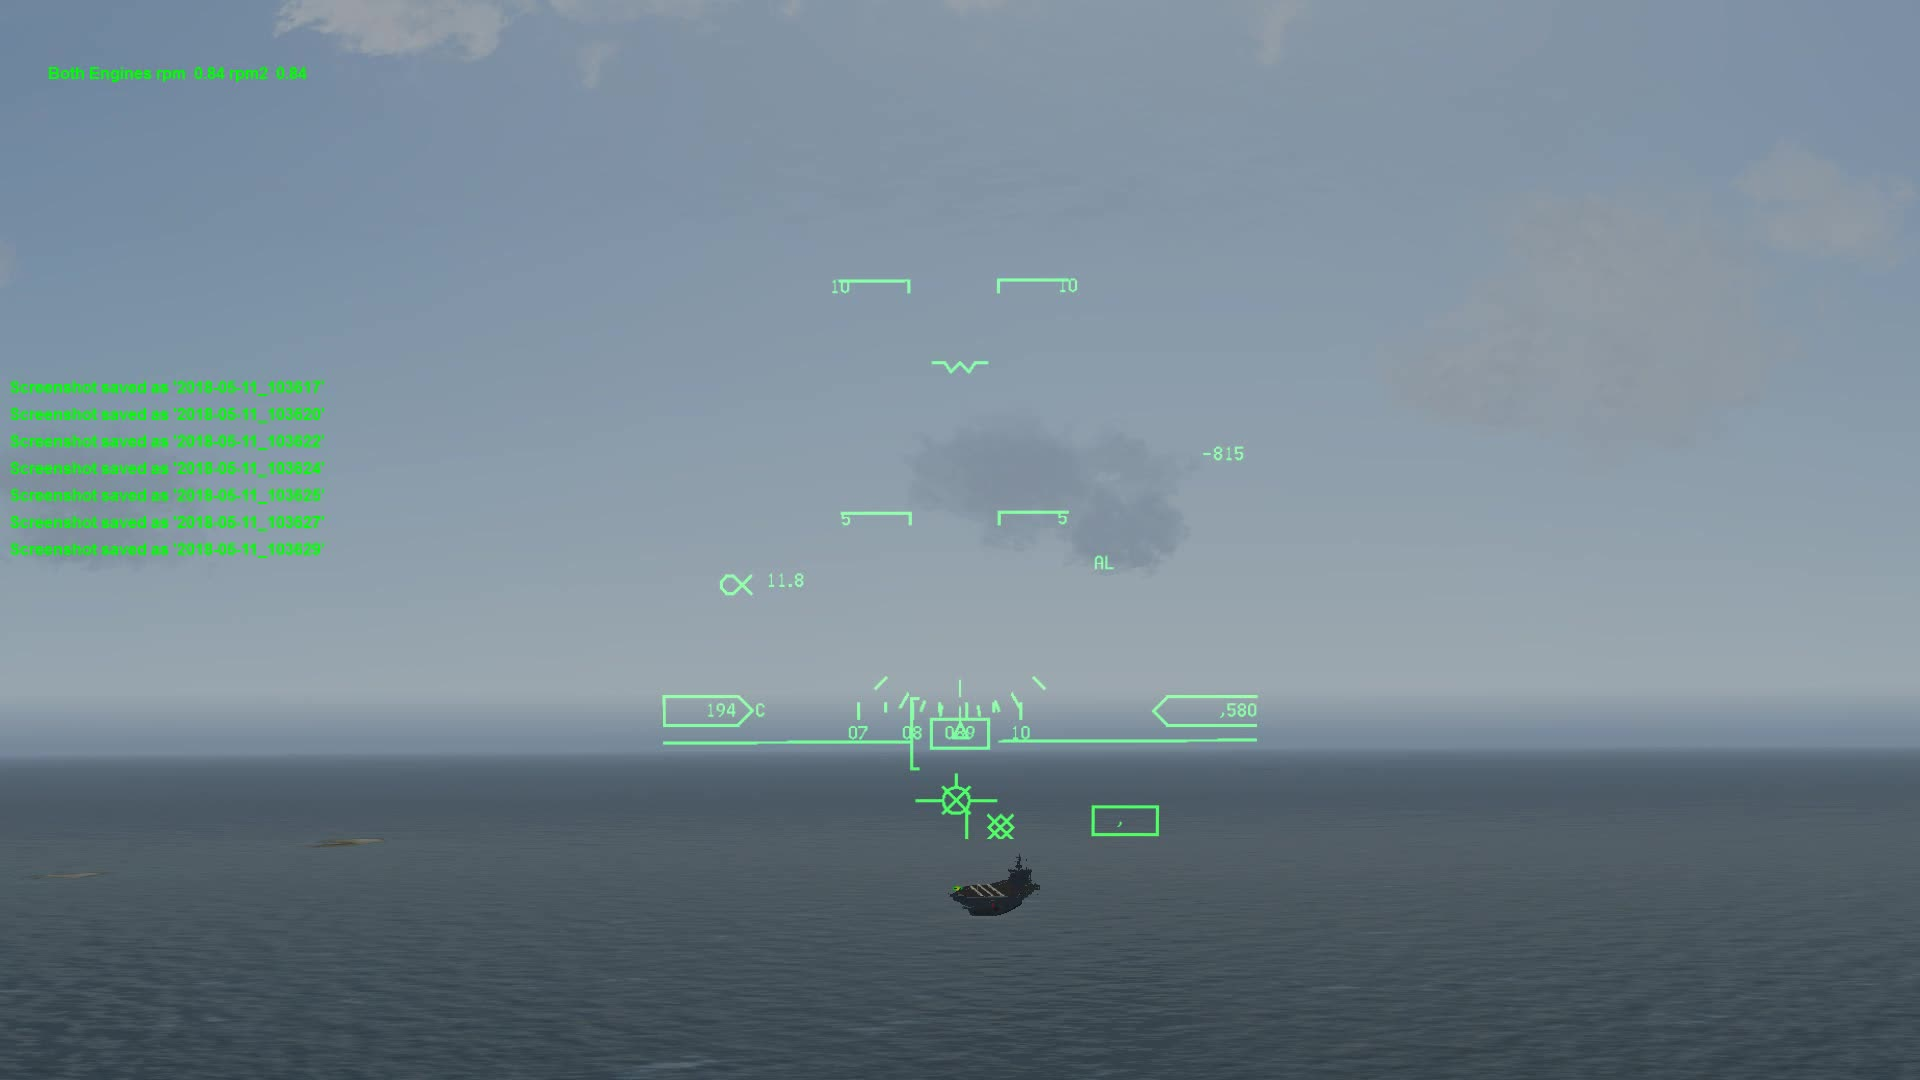speed vector: (919, 773, 992, 828)
